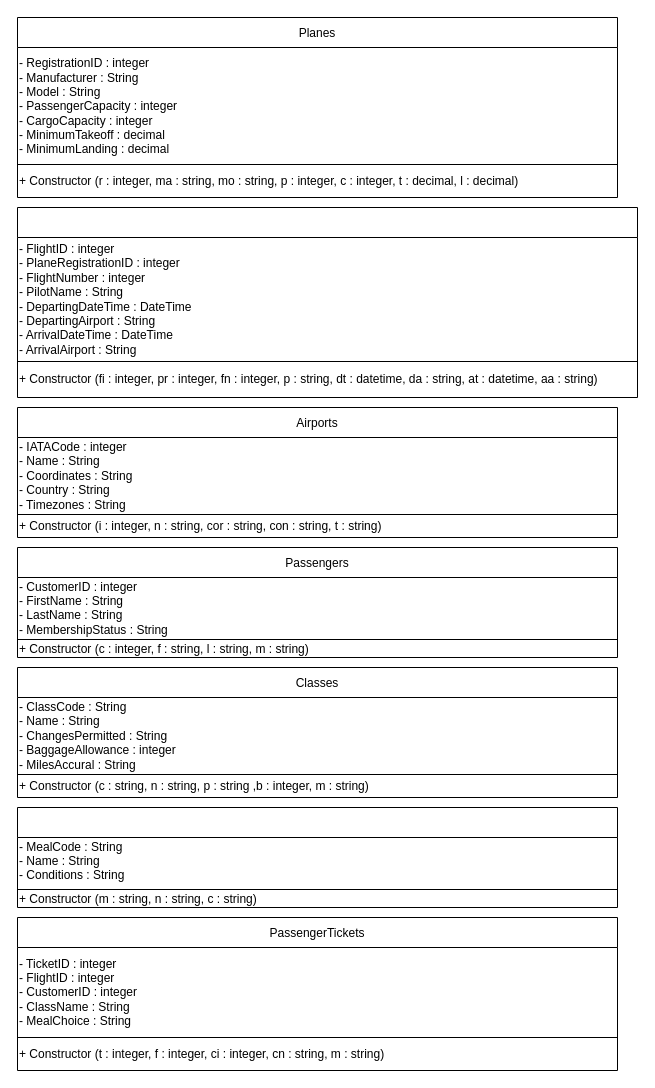
The diagram is 655 pixels wide and 1088 high, and some of its shapes have lost their labels. Here are the shapes that lost their labels. From the top down, the box of each, then its label:
(16, 206, 638, 398): Flights
(16, 806, 618, 908): MealOptions
